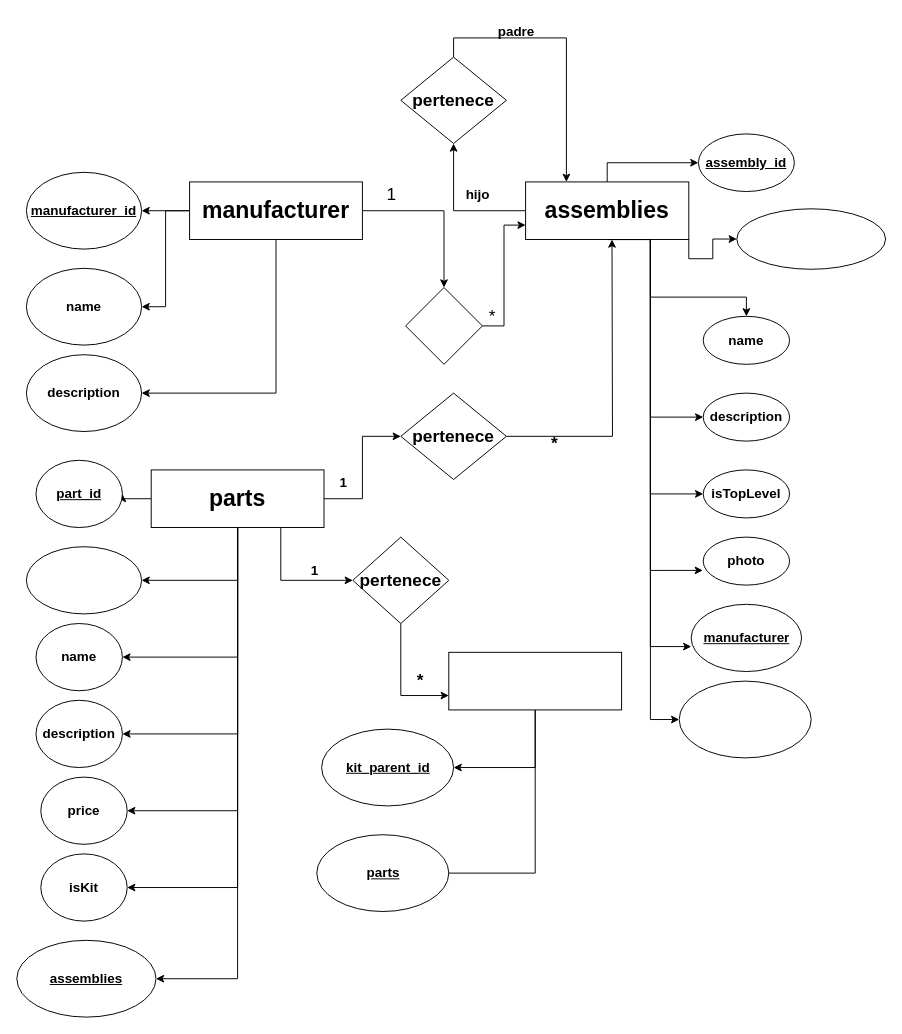
Image size: 902x1034. Some labels were removed from this diagram. The centre of each missing label's shape, as x and y in pixels:
"assembly_parent_id" goes at point 744,719.
"fabrica" goes at point 443,325.
"internal_assembly_id" goes at point 811,238.
"internal_part_id" goes at point 83,580.
"kits" goes at point 535,680.
